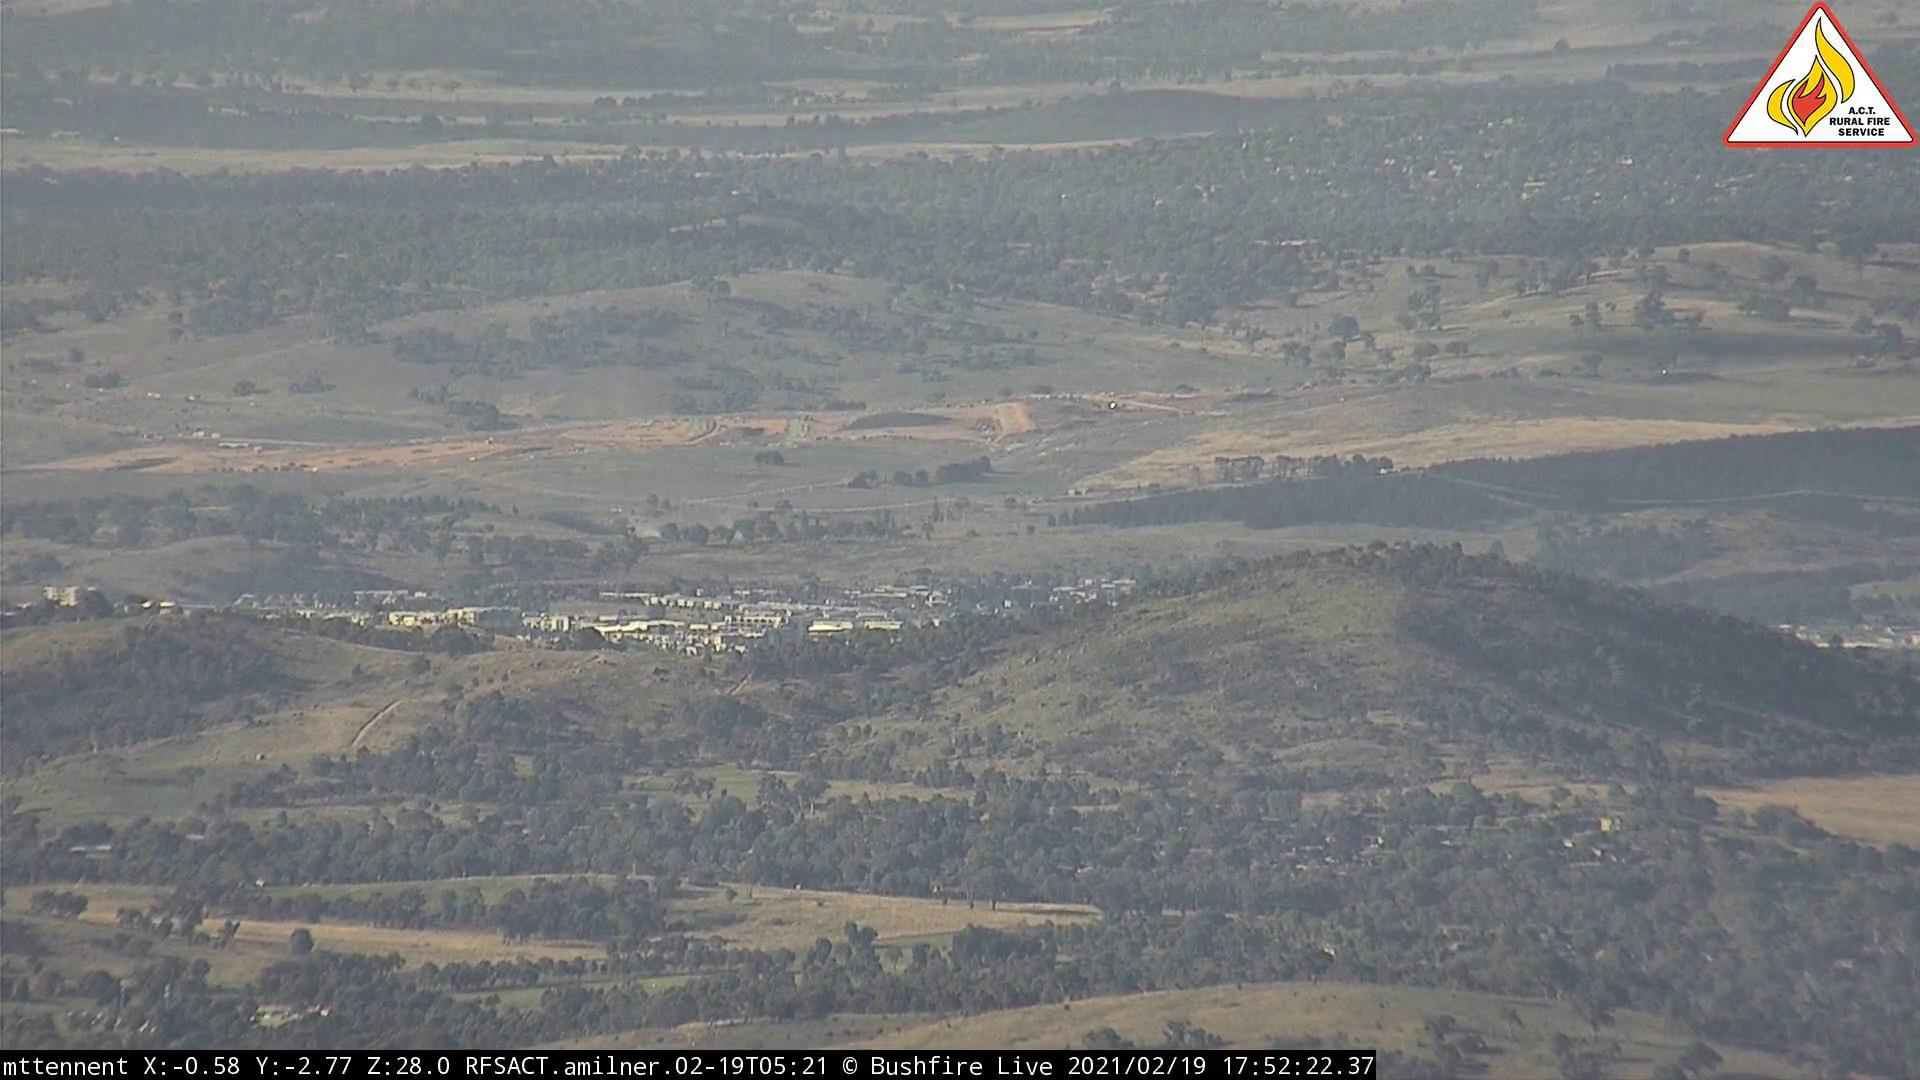Smoke: (585, 491, 680, 546)
